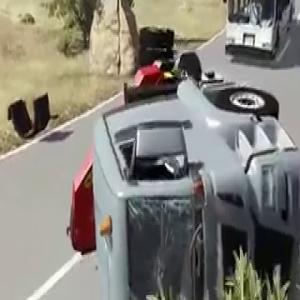severe: (65, 15, 300, 300)
